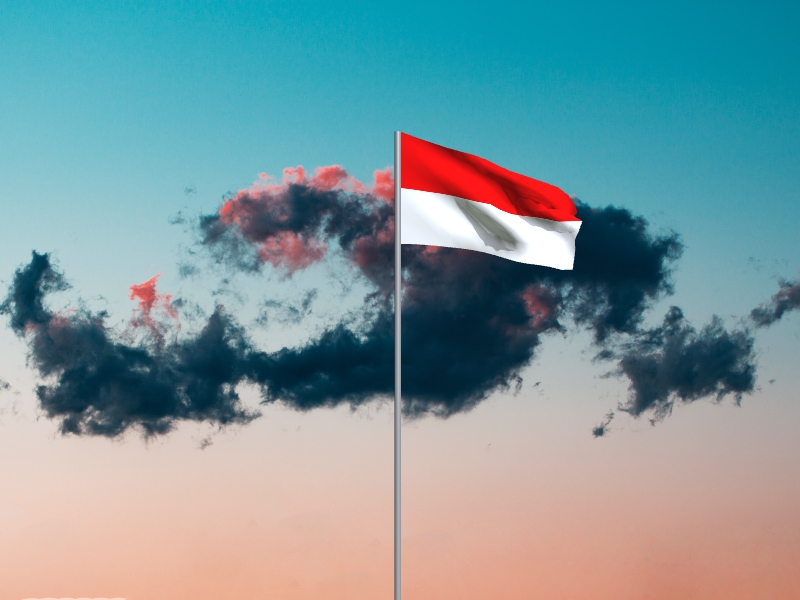id: (402, 133, 584, 272)
